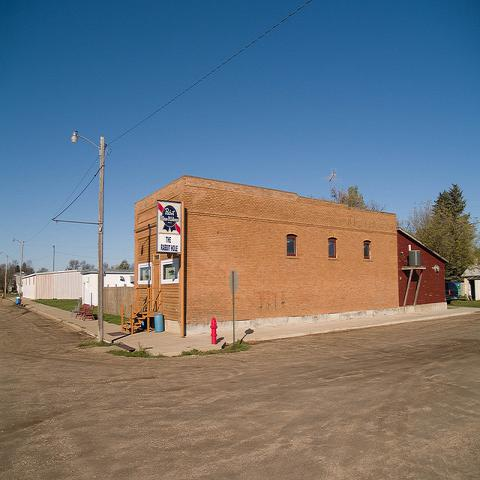car: (445, 279, 459, 304)
